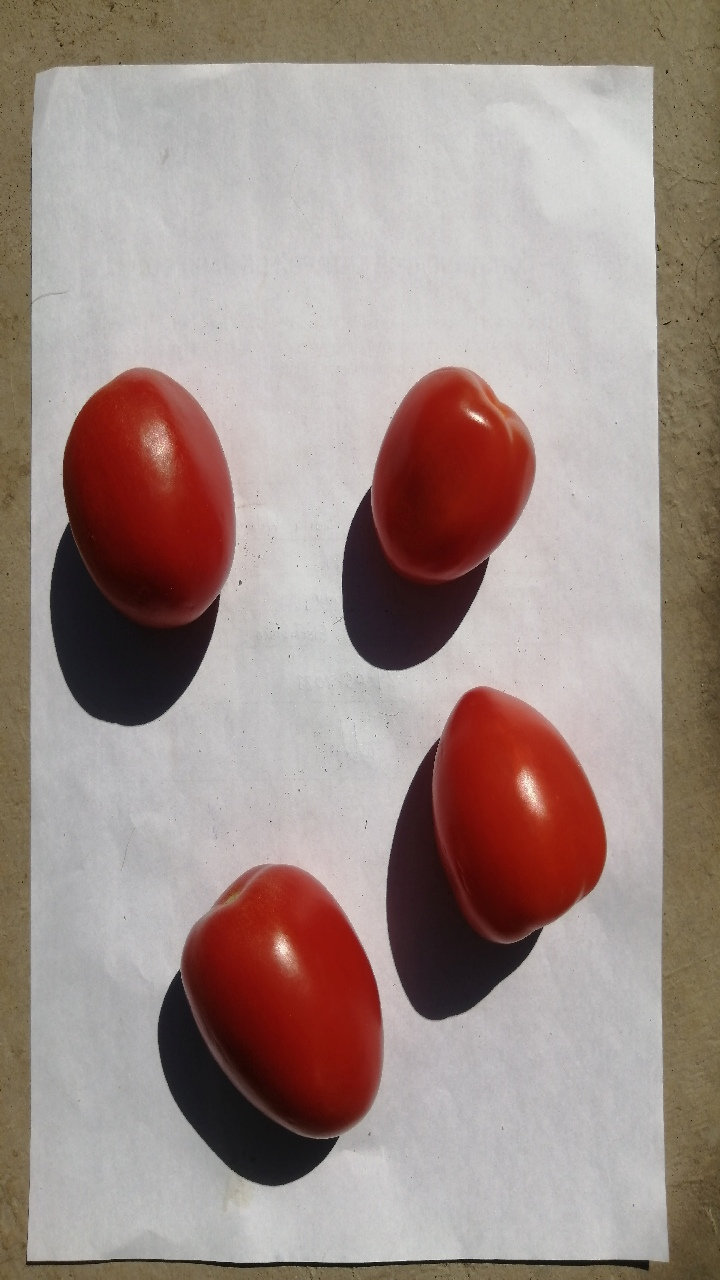tomateRojo: (172, 840, 404, 1163), (41, 345, 246, 651), (398, 671, 615, 959), (348, 345, 555, 588)
